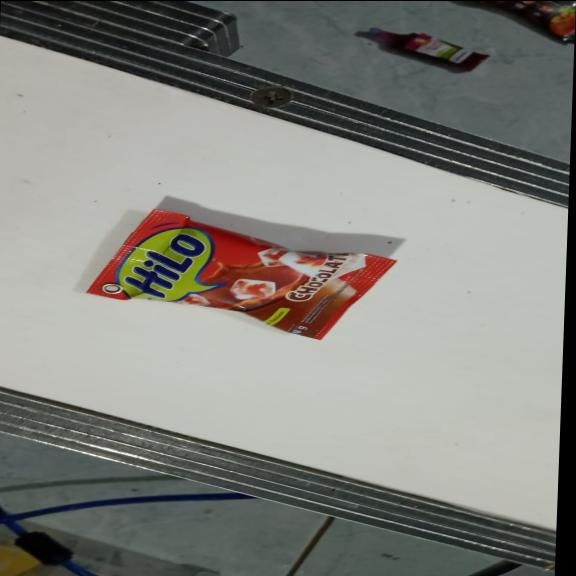Plastik: (78, 208, 397, 340), (363, 26, 491, 72)
